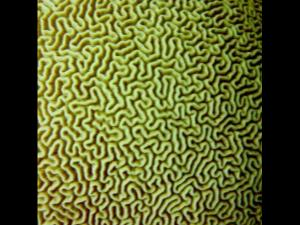bleached_corals: (39, 0, 262, 225)
